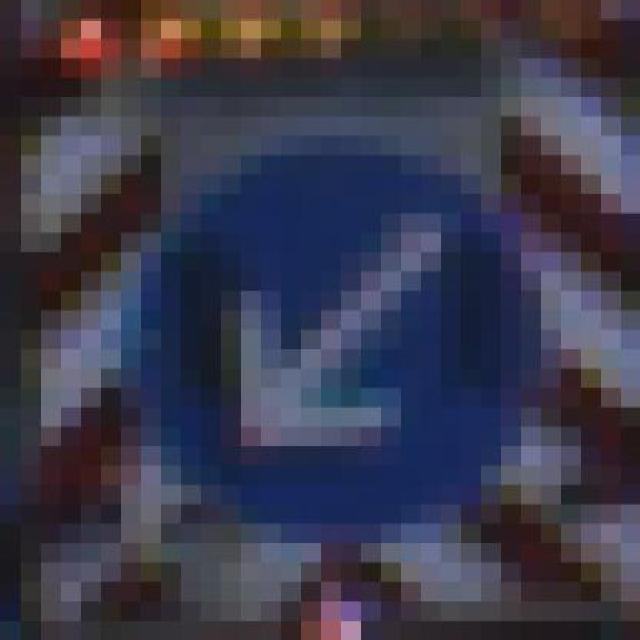Keep-Left: (100, 116, 580, 582)
